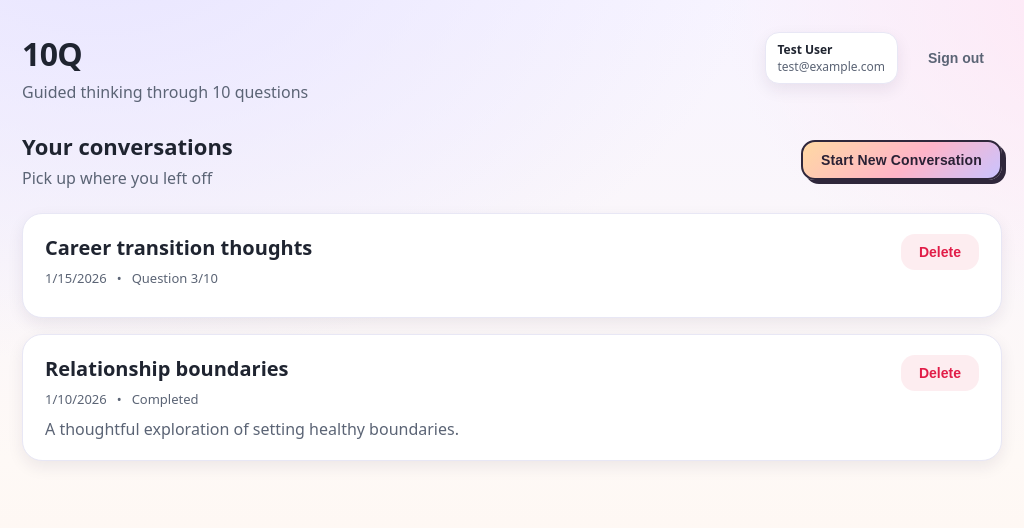
Dashboard › delete conversation › shows an error when deletion fails
Check: the heading "Career transition thoughts" is shown, box [45,234,312,261]
Click the button "Delete" in the row of "Career transition thoughts": (940, 252) [901,234,979,270]
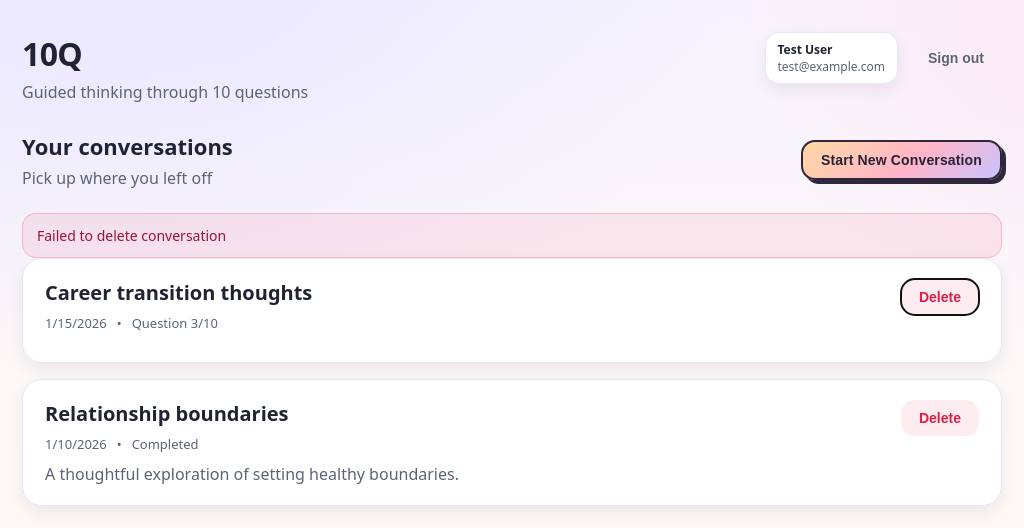
Check: the text "Failed to delete conversation" is shown, box [22,213,1002,258]
